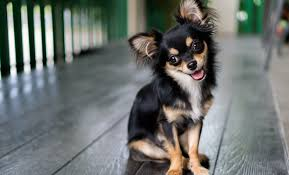chihuahua: (116, 2, 236, 173)
